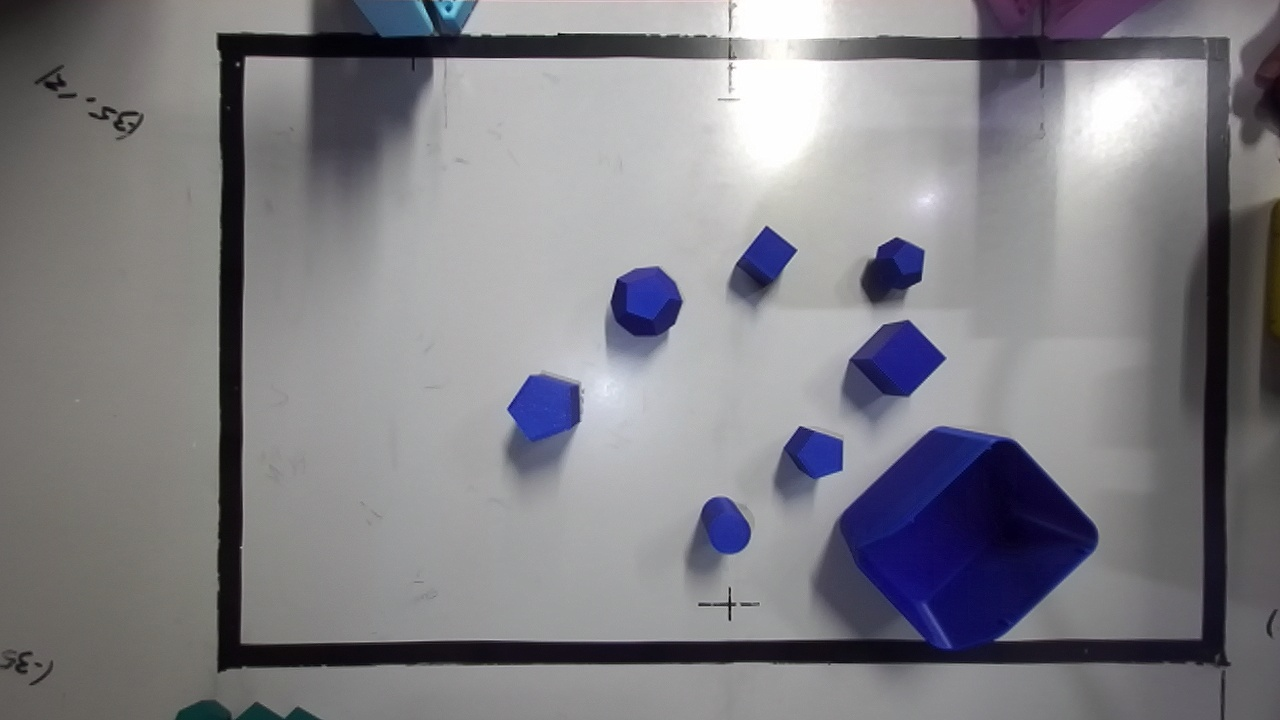bin: (839, 427, 1097, 650)
cube: (850, 320, 945, 395), (737, 226, 796, 285)
cylinder: (700, 496, 750, 553)
dodecahedron: (610, 267, 682, 336), (873, 237, 924, 288)
hexagonal: (507, 373, 580, 440), (784, 426, 842, 478)
